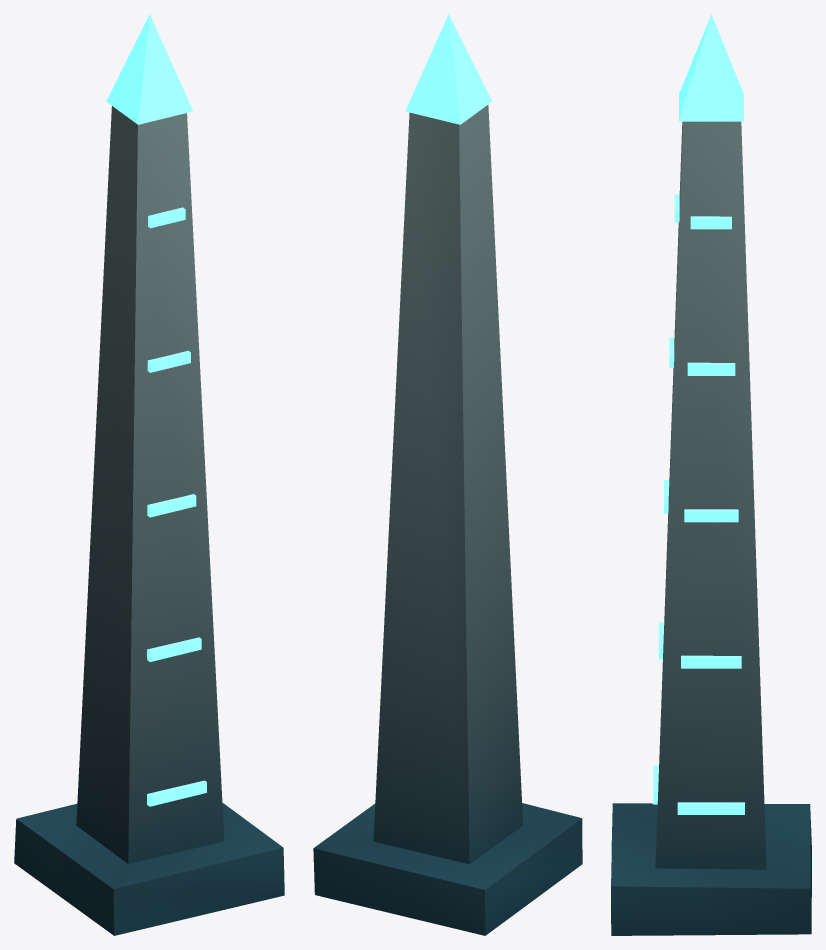
File: ruin_obelisk.glb
3 views of the same model, side by side, from view 1: azimuth 30°, elevation 25°; view 2: azimuth 150°, elevation 25°; view 3: azimuth 270°, elevation 25° (orthographic).
Visible parts, largest first — view 1: ruin_obelisk_stone, ruin_obelisk_glow; view 2: ruin_obelisk_stone, ruin_obelisk_glow; view 3: ruin_obelisk_stone, ruin_obelisk_glow.
Boxes of the visible parts, left/top/right/bottom form: ruin_obelisk_stone: left=14, top=106, right=284, bottom=935; ruin_obelisk_glow: left=106, top=14, right=206, bottom=806; ruin_obelisk_stone: left=313, top=105, right=582, bottom=935; ruin_obelisk_glow: left=405, top=14, right=492, bottom=124; ruin_obelisk_stone: left=611, top=121, right=811, bottom=935; ruin_obelisk_glow: left=653, top=14, right=744, bottom=814.
Bounding box in the file's own units: 2.73 × 13.12 × 2.72.
